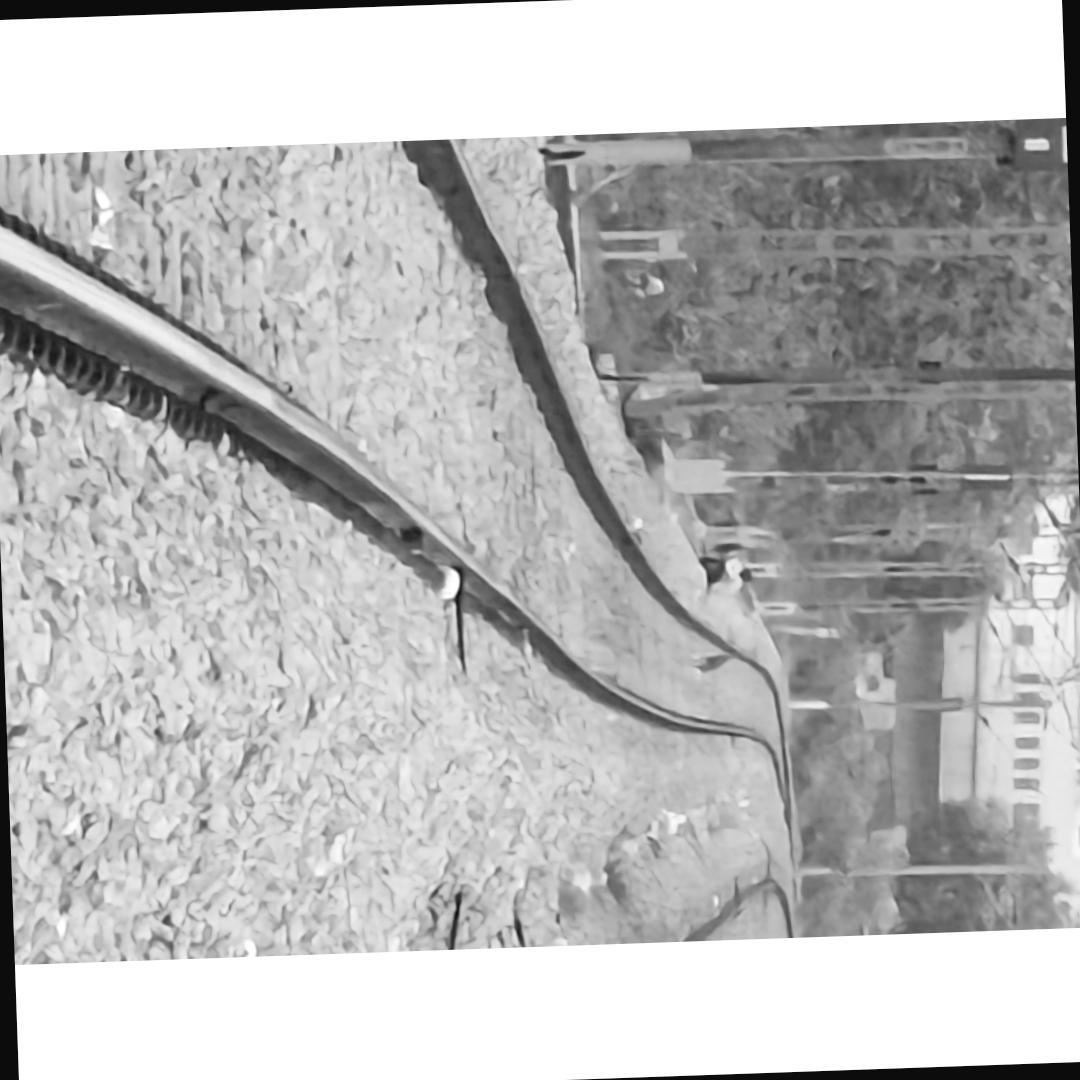track: (0, 138, 793, 841)
